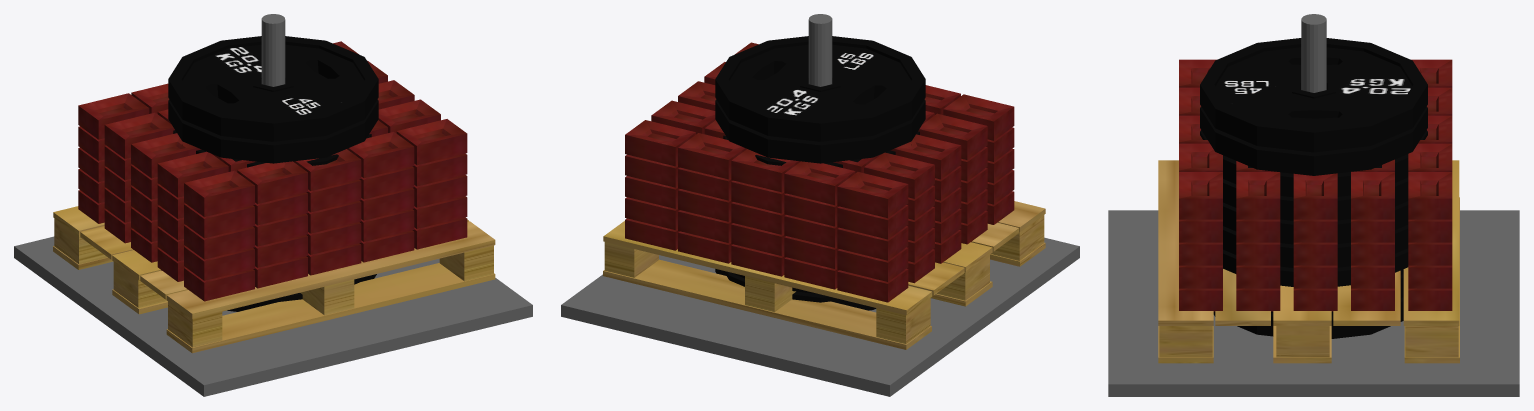
File: Tuğla ve halter ağırlık.fbx
The picture shows the model from 3 angles, left to right: view 1: azimuth 30°, elevation 25°; view 2: azimuth 150°, elevation 25°; view 3: azimuth 270°, elevation 25°; orthographic projection. The views are drawn at different scales.
Visible parts, largest first — view 1: Cube, ağırlık; view 2: Cube, ağırlık; view 3: ağırlık, Cube.
Part boxes in pixels (box(x1,y1,x2,y2)): Cube: box(53, 41, 495, 353); ağırlık: box(14, 14, 532, 396); Cube: box(603, 42, 1045, 349); ağırlık: box(561, 14, 1079, 396); ağırlık: box(1108, 14, 1519, 396); Cube: box(1158, 59, 1459, 363).
Size of the model in its own units: 138 by 107 by 138.
